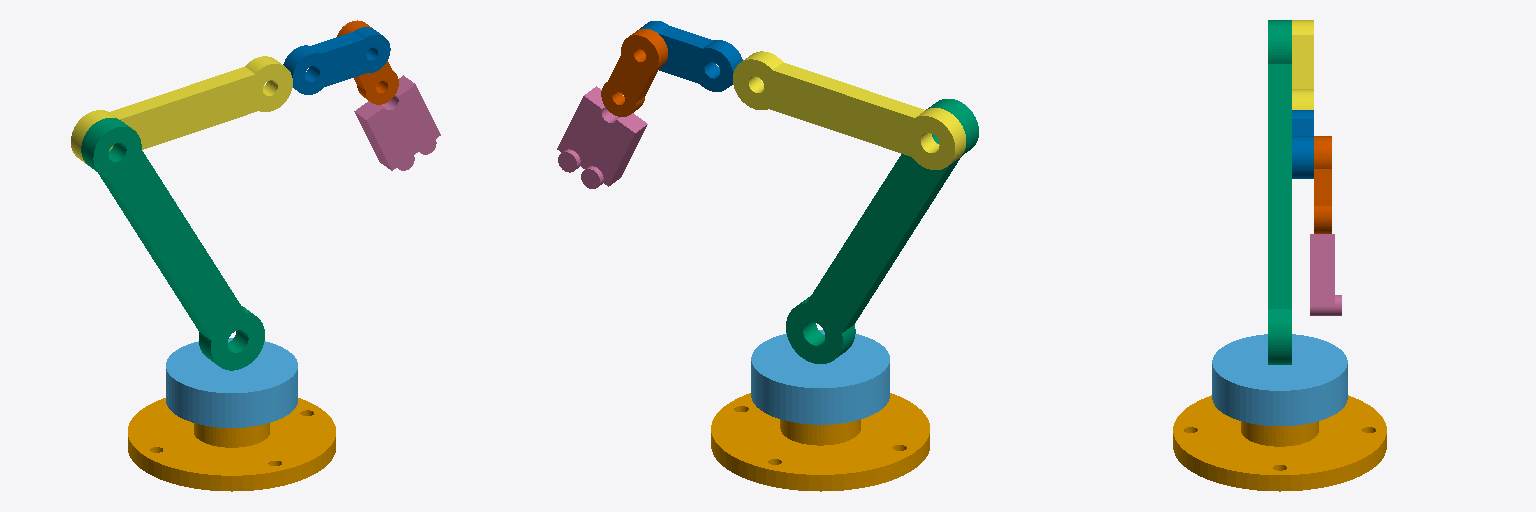
URDF robot description (six_axis_arm_001):
<?xml version="1.0"?>
<!-- Generated by musubicad from doc:six_axis_arm_001 (Six-Axis Robot Arm). Edit the Design Graph, not this file.
     Joint zero positions are the assembly's current pose; density 2700 kg/m^3. -->
<robot name="six_axis_arm_001">
  <link name="base">
    <inertial>
      <origin xyz="0 0 0.00822380106572" rpy="0 0 0"/>
      <mass value="0.382042791778"/>
      <inertia ixx="0.000297694433745" ixy="0" ixz="0" iyy="0.000297694433745" iyz="0" izz="0.000555908215602"/>
    </inertial>
    <visual>
      <origin xyz="0 0 0" rpy="0 0 0"/>
      <geometry><mesh filename="six_axis_arm_001_base.stl"/></geometry>
    </visual>
    <collision>
      <origin xyz="0 0 0" rpy="0 0 0"/>
      <geometry><mesh filename="six_axis_arm_001_base.stl"/></geometry>
    </collision>
  </link>
  <link name="turntable">
    <inertial>
      <origin xyz="0 0 0.011" rpy="0 0 0"/>
      <mass value="0.269465706244"/>
      <inertia ixx="0.000108145568161" ixy="0" ixz="0" iyy="0.000108145568161" iyz="0" izz="0.000194554236018"/>
    </inertial>
    <visual>
      <origin xyz="0 0 0" rpy="0 0 0"/>
      <geometry><mesh filename="six_axis_arm_001_turntable.stl"/></geometry>
    </visual>
    <collision>
      <origin xyz="0 0 0" rpy="0 0 0"/>
      <geometry><mesh filename="six_axis_arm_001_turntable.stl"/></geometry>
    </collision>
  </link>
  <link name="upper_arm">
    <inertial>
      <origin xyz="0 0.0779776238376 0.007" rpy="0 0 0"/>
      <mass value="0.186267627318"/>
      <inertia ixx="0.000562763233076" ixy="0" ixz="0" iyy="1.53497651776e-5" iyz="0" izz="0.000572028255761"/>
    </inertial>
    <visual>
      <origin xyz="0 0 0" rpy="0 0 0"/>
      <geometry><mesh filename="six_axis_arm_001_upper_arm.stl"/></geometry>
    </visual>
    <collision>
      <origin xyz="0 0 0" rpy="0 0 0"/>
      <geometry><mesh filename="six_axis_arm_001_upper_arm.stl"/></geometry>
    </collision>
  </link>
  <link name="forearm">
    <inertial>
      <origin xyz="0 0.0542974464763 0.006" rpy="0 0 0"/>
      <mass value="0.106878771565"/>
      <inertia ixx="0.000169998558219" ixy="0" ixz="0" iyy="7.37686166402e-6" iyz="0" izz="0.000174810329365"/>
    </inertial>
    <visual>
      <origin xyz="0 0 0" rpy="0 0 0"/>
      <geometry><mesh filename="six_axis_arm_001_forearm.stl"/></geometry>
    </visual>
    <collision>
      <origin xyz="0 0 0" rpy="0 0 0"/>
      <geometry><mesh filename="six_axis_arm_001_forearm.stl"/></geometry>
    </collision>
  </link>
  <link name="wrist">
    <inertial>
      <origin xyz="0 0.0324152524281 0" rpy="0 0 0"/>
      <mass value="0.0410858959309"/>
      <inertia ixx="1.32340182469e-5" ixy="0" ixz="0" iyy="2.35997147181e-6" iyz="0" izz="1.46079282164e-5"/>
    </inertial>
    <visual>
      <origin xyz="0 0.013 -0.006" rpy="0 0 0"/>
      <geometry><mesh filename="six_axis_arm_001_wrist.stl"/></geometry>
    </visual>
    <collision>
      <origin xyz="0 0.013 -0.006" rpy="0 0 0"/>
      <geometry><mesh filename="six_axis_arm_001_wrist.stl"/></geometry>
    </collision>
  </link>
  <link name="hand">
    <inertial>
      <origin xyz="0 0.0149820778795 0.005" rpy="0 0 0"/>
      <mass value="0.0264574127993"/>
      <inertia ixx="6.09995768496e-6" ixy="0" ixz="0" iyy="1.23565177564e-6" iyz="0" izz="6.89465258062e-6"/>
    </inertial>
    <visual>
      <origin xyz="0 0 0" rpy="0 0 0"/>
      <geometry><mesh filename="six_axis_arm_001_hand.stl"/></geometry>
    </visual>
    <collision>
      <origin xyz="0 0 0" rpy="0 0 0"/>
      <geometry><mesh filename="six_axis_arm_001_hand.stl"/></geometry>
    </collision>
  </link>
  <link name="gripper">
    <inertial>
      <origin xyz="0 0.0228791153002 0.000368489201312" rpy="0 0 0"/>
      <mass value="0.059665579097"/>
      <inertia ixx="1.05967534636e-5" ixy="0" ixz="0" iyy="7.48745884171e-6" iyz="-3.76421852691e-7" izz="1.58288769017e-5"/>
    </inertial>
    <visual>
      <origin xyz="0 0 -0.007" rpy="0 0 0"/>
      <geometry><mesh filename="six_axis_arm_001_gripper.stl"/></geometry>
    </visual>
    <collision>
      <origin xyz="0 0 -0.007" rpy="0 0 0"/>
      <geometry><mesh filename="six_axis_arm_001_gripper.stl"/></geometry>
    </collision>
  </link>
  <joint name="base_yaw" type="revolute">
    <parent link="base"/>
    <child link="turntable"/>
    <origin xyz="0 0 0.03" rpy="0 0 0"/>
    <axis xyz="0 0 1"/>
    <limit lower="-2.96705972839" upper="2.96705972839" effort="4" velocity="2"/>
  </joint>
  <joint name="shoulder" type="revolute">
    <parent link="turntable"/>
    <child link="upper_arm"/>
    <origin xyz="0 -0.007 0.04" rpy="1.57079632679 0.523598775598 3.14159265359"/>
    <axis xyz="0 0 1"/>
    <limit lower="-1.0471975512" upper="1.3962634016" effort="6" velocity="2"/>
  </joint>
  <joint name="elbow" type="revolute">
    <parent link="upper_arm"/>
    <child link="forearm"/>
    <origin xyz="0 0.16 0.014" rpy="0 0 2.00712863979"/>
    <axis xyz="0 0 1"/>
    <limit lower="-2.26892802759" upper="0.523598775598" effort="3" velocity="2.5"/>
  </joint>
  <joint name="wrist_roll" type="revolute">
    <parent link="forearm"/>
    <child link="wrist"/>
    <origin xyz="0 0.125 0.006" rpy="0 0 0"/>
    <axis xyz="0 1 0"/>
    <limit lower="-2.96705972839" upper="2.96705972839" effort="1" velocity="3"/>
  </joint>
  <joint name="wrist_pitch" type="revolute">
    <parent link="wrist"/>
    <child link="hand"/>
    <origin xyz="0 0.053 0.006" rpy="0 0 1.2217304764"/>
    <axis xyz="0 0 1"/>
    <limit lower="-1.91986217719" upper="1.2217304764" effort="0.8" velocity="3"/>
  </joint>
  <joint name="flange_roll" type="revolute">
    <parent link="hand"/>
    <child link="gripper"/>
    <origin xyz="0 0.043 0.005" rpy="0 0 0"/>
    <axis xyz="0 1 0"/>
    <limit lower="-2.96705972839" upper="2.96705972839" effort="0.5" velocity="4"/>
  </joint>
</robot>

--- Facts derived from the render (not from the file) ---
Views: 3 orthographic renders of the robot side by side, from view 1: azimuth 30°, elevation 25°; view 2: azimuth 150°, elevation 25°; view 3: azimuth 270°, elevation 25°.
Model six_axis_arm_001 with 7 links and 6 joints (6 revolute), rooted at base, posed every joint at zero.
Links seen in each view (by area): view 1: upper_arm, base, turntable, forearm, gripper, wrist, hand; view 2: base, upper_arm, forearm, turntable, gripper, wrist, hand; view 3: base, turntable, upper_arm, gripper, forearm, hand, wrist.
Boxes of the visible links, x1,y1,x2,y2 form: upper_arm: [81, 118, 264, 370]; base: [128, 398, 335, 491]; turntable: [166, 338, 297, 427]; forearm: [71, 56, 292, 163]; gripper: [354, 75, 440, 170]; wrist: [283, 27, 390, 94]; hand: [337, 20, 398, 104]; base: [711, 393, 929, 491]; upper_arm: [786, 99, 978, 363]; forearm: [733, 51, 965, 169]; turntable: [751, 330, 889, 424]; gripper: [557, 86, 647, 188]; wrist: [640, 21, 742, 91]; hand: [601, 29, 667, 116]; base: [1173, 395, 1386, 491]; turntable: [1212, 334, 1347, 425]; upper_arm: [1268, 20, 1291, 364]; gripper: [1310, 234, 1341, 315]; forearm: [1292, 20, 1313, 109]; hand: [1314, 136, 1331, 233]; wrist: [1292, 110, 1313, 178].
Size in the robot's own frame: 0.2447 by 0.12 by 0.2361 metres.
Meshes: 7 distinct files referenced, 7 mesh visuals loaded (7 binary STL).
